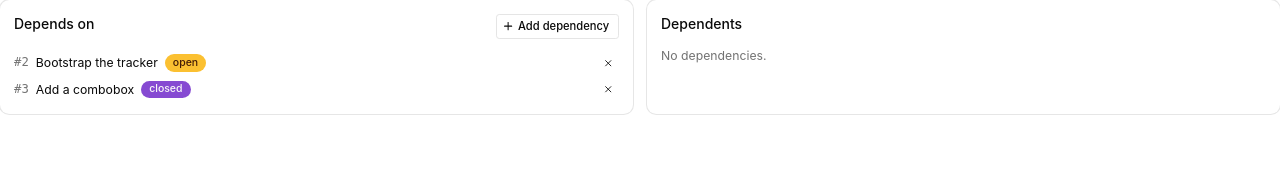
Test: IssueDependencies picker › excludes the issue itself and its existing dependencies
Click the button "Add dependency".
click(558, 26)  # box [496,14,619,38]
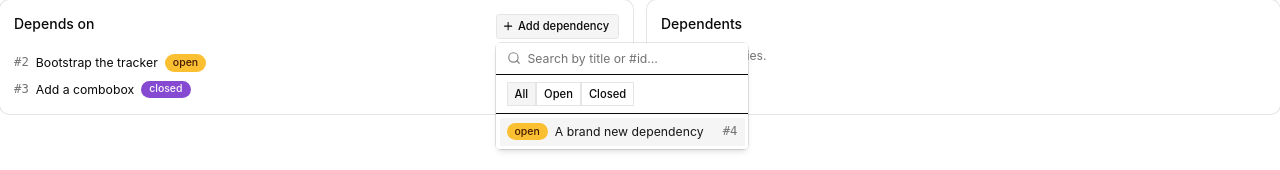
Result: the option "open A brand new dependency #4" is shown at [500,118,744,146]
